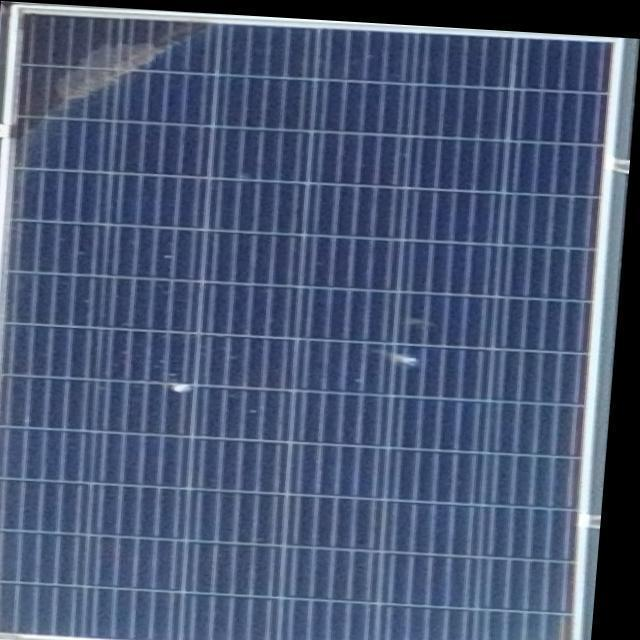Surface Contaminant: (13, 20, 210, 160), (368, 330, 434, 382), (165, 369, 202, 408)
